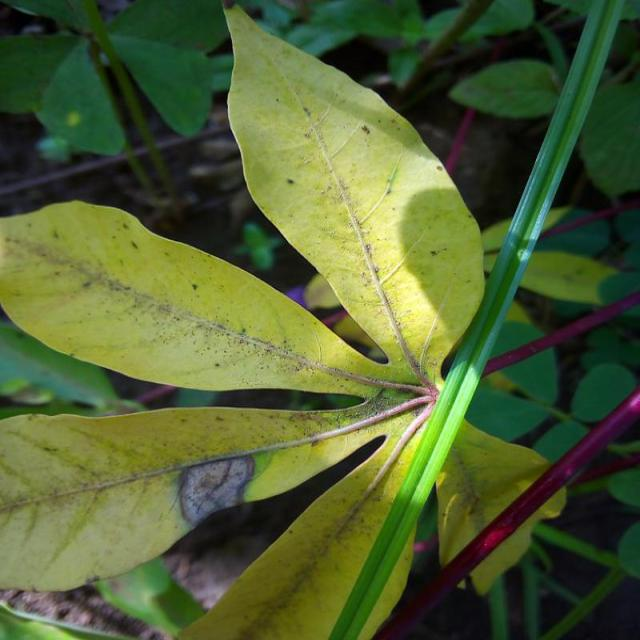cassava leaf: (0, 2, 567, 638), (221, 2, 486, 384)
